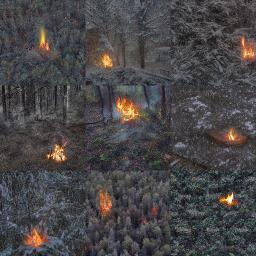Small fire: (36, 26, 58, 54), (23, 228, 49, 248), (238, 39, 256, 64), (96, 190, 115, 213), (117, 100, 138, 120), (225, 126, 243, 146), (47, 147, 70, 160), (99, 56, 117, 69), (218, 192, 236, 204)
